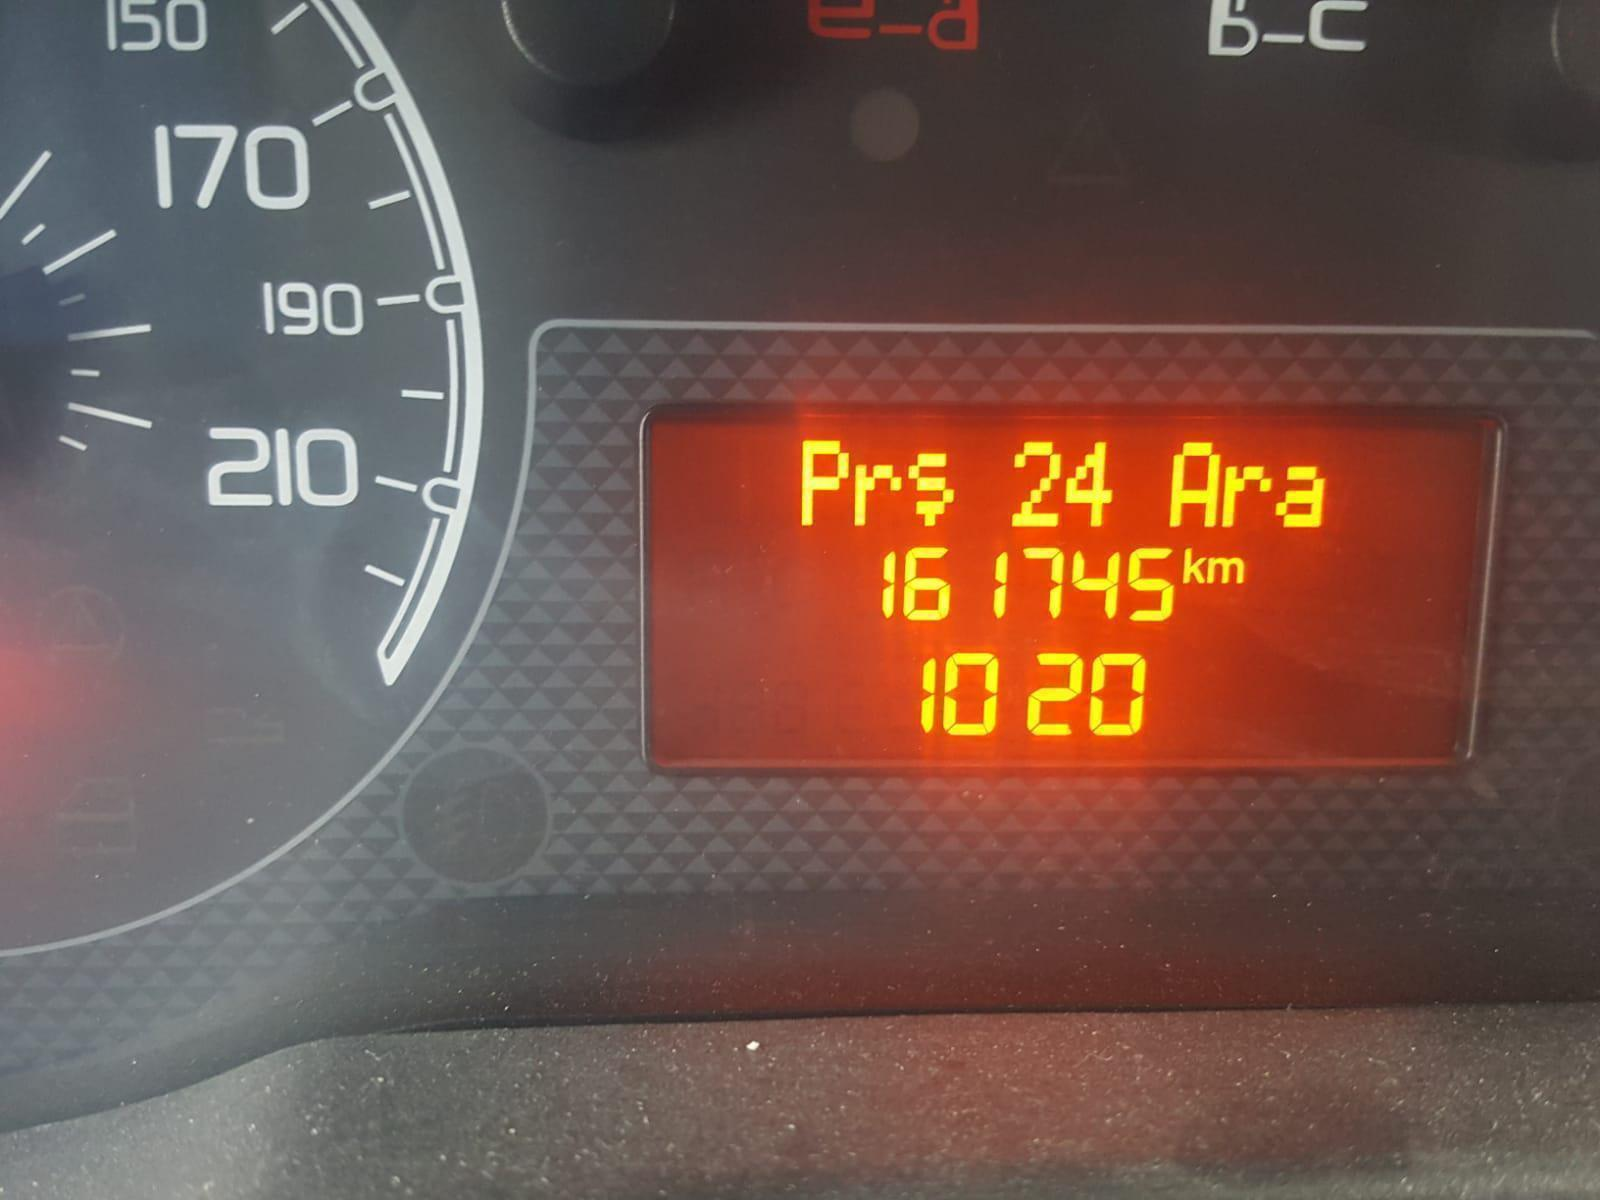0: (1087, 650, 1146, 740), (944, 649, 997, 740)
1: (916, 653, 939, 732), (990, 547, 1010, 623), (878, 543, 896, 621)
2: (1009, 435, 1062, 534), (1026, 649, 1081, 737)
4: (1065, 437, 1120, 529), (1068, 543, 1121, 624)
5: (1128, 543, 1174, 624)
6: (903, 543, 952, 624)
7: (1020, 545, 1062, 619)
X: (1167, 437, 1218, 532), (795, 432, 847, 524), (1220, 455, 1270, 533), (1272, 463, 1327, 533), (907, 445, 952, 526), (855, 458, 902, 524), (1207, 555, 1245, 587), (1180, 545, 1207, 586)
odometer: (626, 392, 1521, 782)
